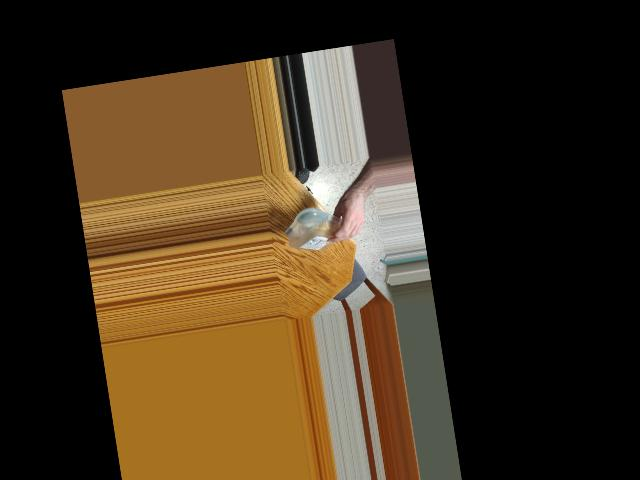cheese: (286, 207, 354, 252)
